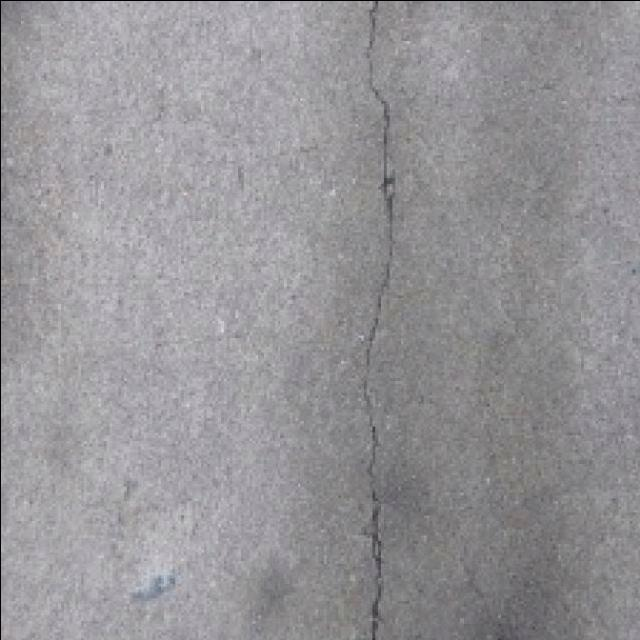SurfaceCrack: (316, 0, 438, 640)
